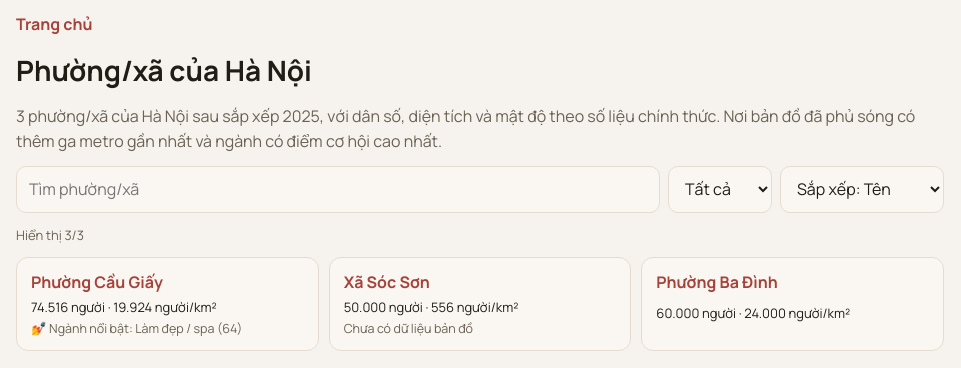
Test: WardsComponent (directory) › searches without accents and filters by kind
Type "cau giay" into the search field with placeholder "Tìm phường/xã" at point(338, 189), box left=16, top=166, right=660, bottom=213
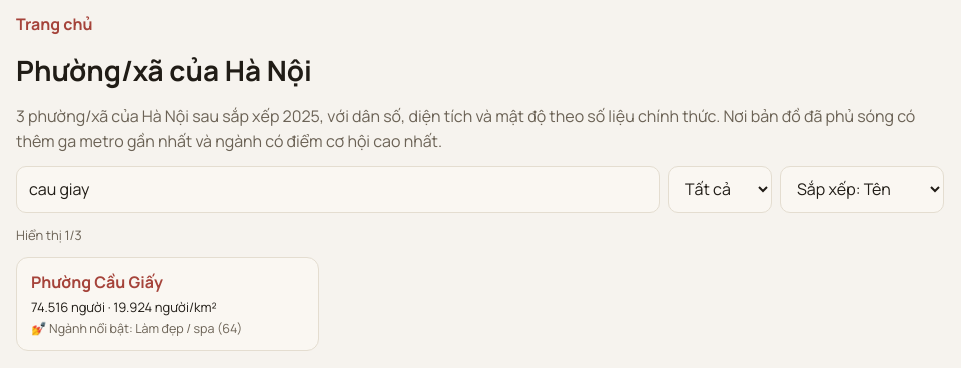
Expected: the number of links with class "wd__card" is 1, left=16, top=257, right=319, bottom=351
Clear the search field named "Tìm phường/xã" at point(338, 189), box left=16, top=166, right=660, bottom=213
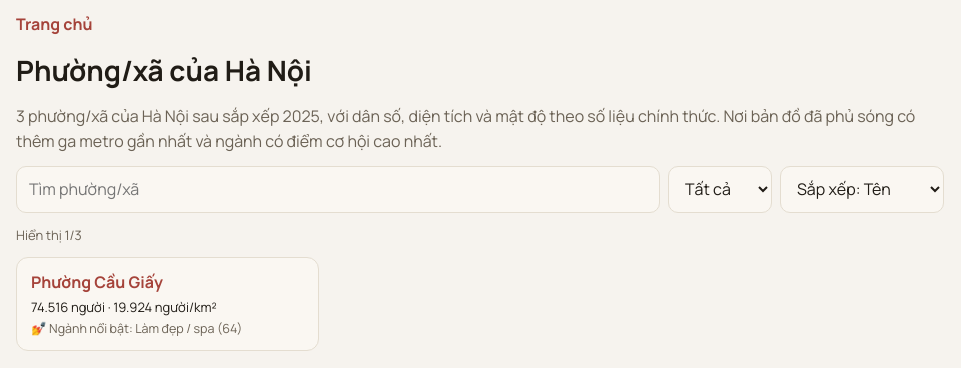
Select "Xã" in the dropdown named "Tất cả" at point(720, 189), box left=668, top=166, right=772, bottom=213
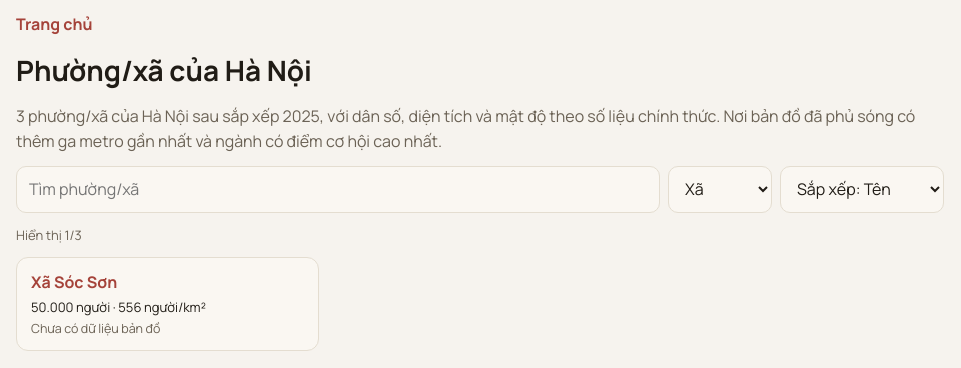
Expected: the number of links with class "wd__card" is 1, left=16, top=257, right=319, bottom=351
Expected: the link with class "wd__card" shows "Xã Sóc Sơn", left=16, top=257, right=319, bottom=351
